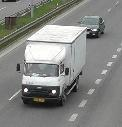Car: (80, 14, 106, 38)
Truck: (22, 26, 87, 106)
